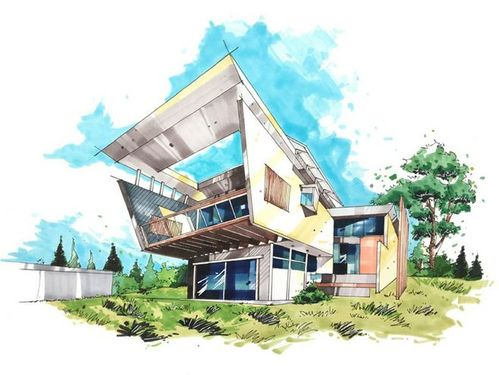buildings: (96, 60, 351, 284)
